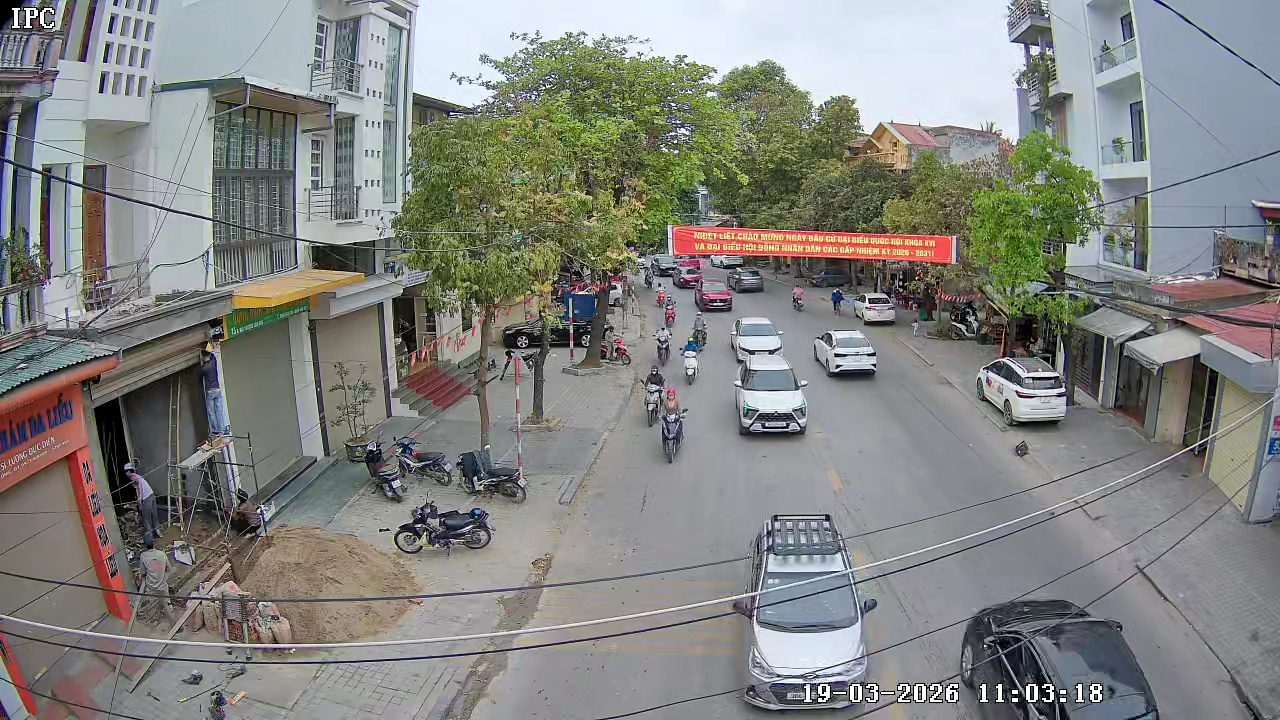car: (731, 510, 880, 716), (952, 600, 1164, 719), (975, 353, 1069, 429), (733, 355, 811, 437), (813, 328, 879, 378), (728, 314, 785, 361), (856, 292, 898, 326), (694, 281, 734, 313), (732, 267, 766, 292)
motorbike: (393, 493, 496, 556), (657, 387, 689, 464), (640, 365, 667, 427), (680, 336, 701, 385), (608, 331, 632, 365), (654, 325, 672, 363), (598, 331, 618, 362), (657, 285, 673, 315), (791, 287, 805, 313)
